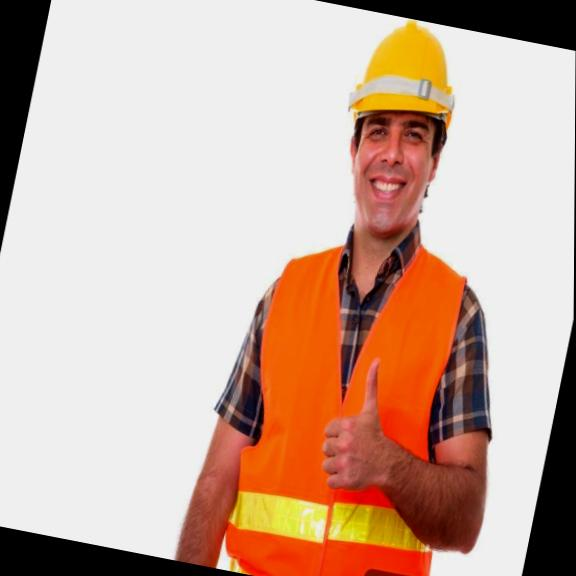safety_vest: (216, 226, 478, 572)
